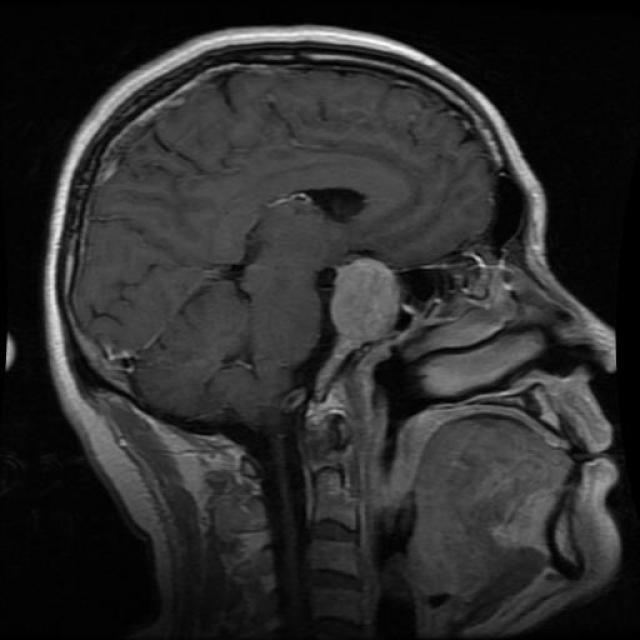pituitary: (318, 248, 397, 382)
